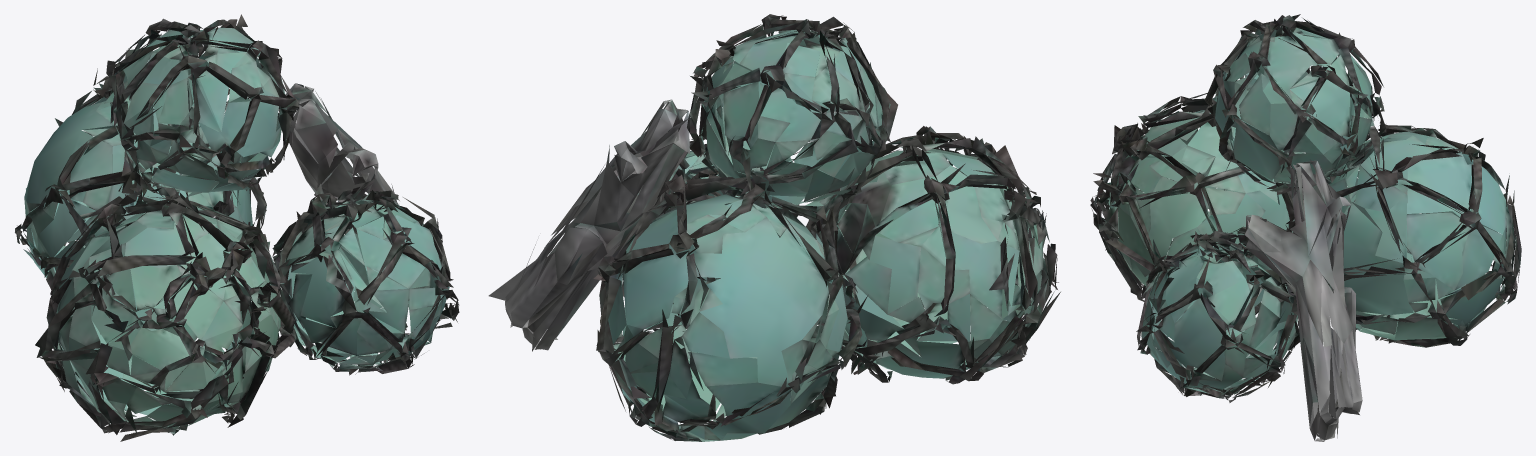
Rendered from glass_floats.glb.
3 renders of one model, left to right at view 1: azimuth 30°, elevation 25°; view 2: azimuth 150°, elevation 25°; view 3: azimuth 270°, elevation 25°, orthographic. The views are drawn at different scales.
Visible parts, largest first — view 1: Mesh_0; view 2: Mesh_0; view 3: Mesh_0.
Boxes of the visible parts, box(x1,y1,x2,y2) form: Mesh_0: box(15, 14, 459, 441); Mesh_0: box(488, 14, 1060, 441); Mesh_0: box(1090, 14, 1521, 441).
Size of the model in its own units: 1.9 by 1.39 by 1.69.
Materials: 1 (1 with a texture image).
